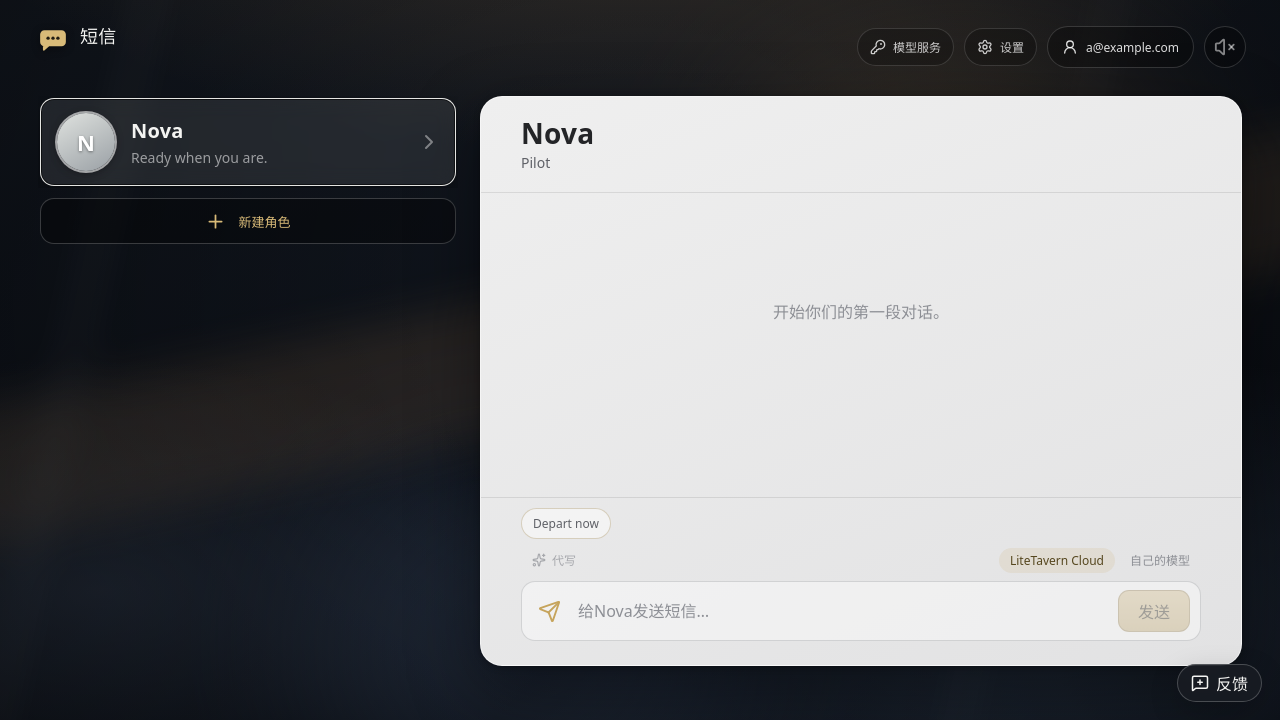
Test: sends a configured quick reply only when direct-send behavior is enabled
The image size is (1280, 720).
Check: the text box with placeholder "Nova" is shown, box [576,597,1106,625]
Click the button "Depart now" at point(566, 524), box [521,508,611,539]
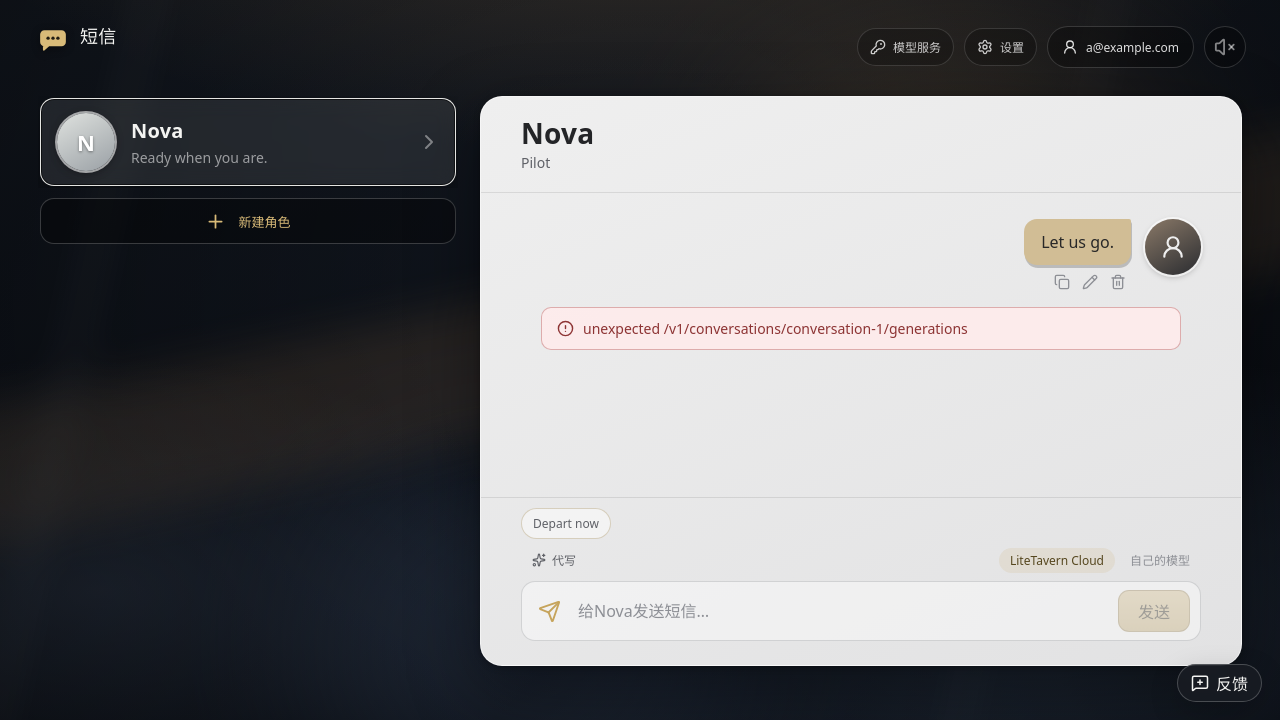
Check: the text "Let us go." is shown, box [1024,219,1131,265]
